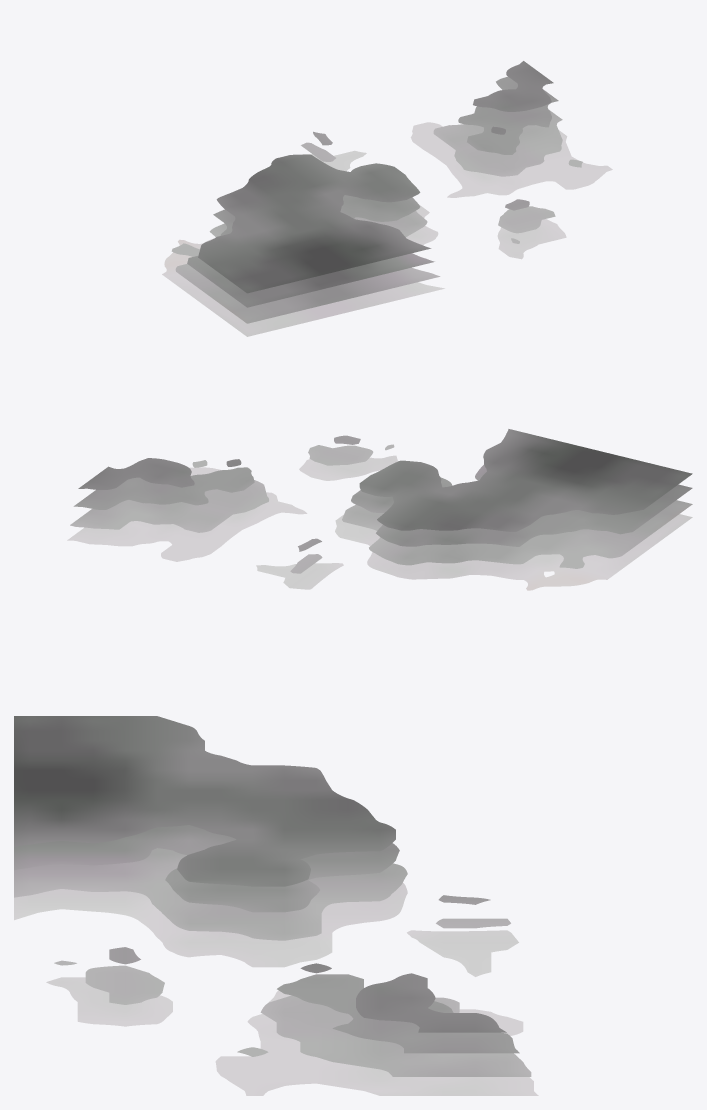
The model's file is SWORDLIGHT20_MAINCAVERNCLOUDS12.fbx.
3 renders of one model, top to bottom at view 1: azimuth 30°, elevation 25°; view 2: azimuth 150°, elevation 25°; view 3: azimuth 270°, elevation 25°, orthographic. The views are drawn at different scales.
Parts seen in each view (by area): view 1: SWORDLIGHT20_MAINCAVERNCLOUDS12; view 2: SWORDLIGHT20_MAINCAVERNCLOUDS12; view 3: SWORDLIGHT20_MAINCAVERNCLOUDS12.
Part boxes in pixels (x1,y1,x2,y2): SWORDLIGHT20_MAINCAVERNCLOUDS12: (162, 61, 612, 336); SWORDLIGHT20_MAINCAVERNCLOUDS12: (67, 429, 692, 590); SWORDLIGHT20_MAINCAVERNCLOUDS12: (14, 716, 538, 1095).
Size of the model in its own units: 161490 by 15056 by 146334.
4 materials, 4 textured.
